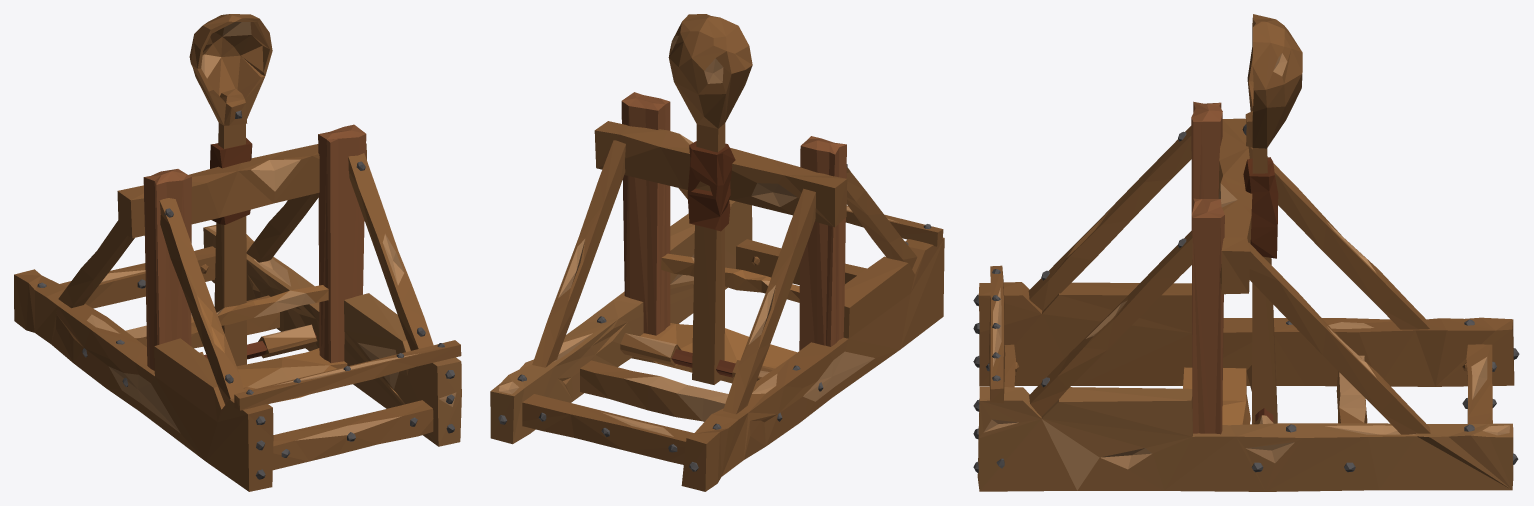
File: LPSWP_Catapult02.fbx
3 renders of one model, left to right at view 1: azimuth 30°, elevation 25°; view 2: azimuth 150°, elevation 25°; view 3: azimuth 270°, elevation 25°, orthographic. The views are drawn at different scales.
Parts seen in each view (by area): view 1: LPSWP_Catapult02, LPSWP_Catapult02_Catapult; view 2: LPSWP_Catapult02, LPSWP_Catapult02_Catapult; view 3: LPSWP_Catapult02, LPSWP_Catapult02_Catapult.
Boxes of the visible parts, x1,y1,x2,y2 form: LPSWP_Catapult02: (14, 124, 461, 491); LPSWP_Catapult02_Catapult: (189, 14, 317, 366); LPSWP_Catapult02: (490, 92, 944, 491); LPSWP_Catapult02_Catapult: (620, 14, 774, 384); LPSWP_Catapult02: (973, 101, 1519, 491); LPSWP_Catapult02_Catapult: (1242, 14, 1302, 424).
Size of the model in its own units: 1.69 by 2.46 by 2.96.
